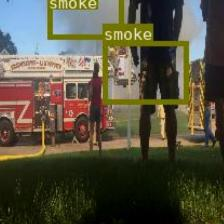smoke: (102, 41, 187, 104), (46, 0, 122, 38)
